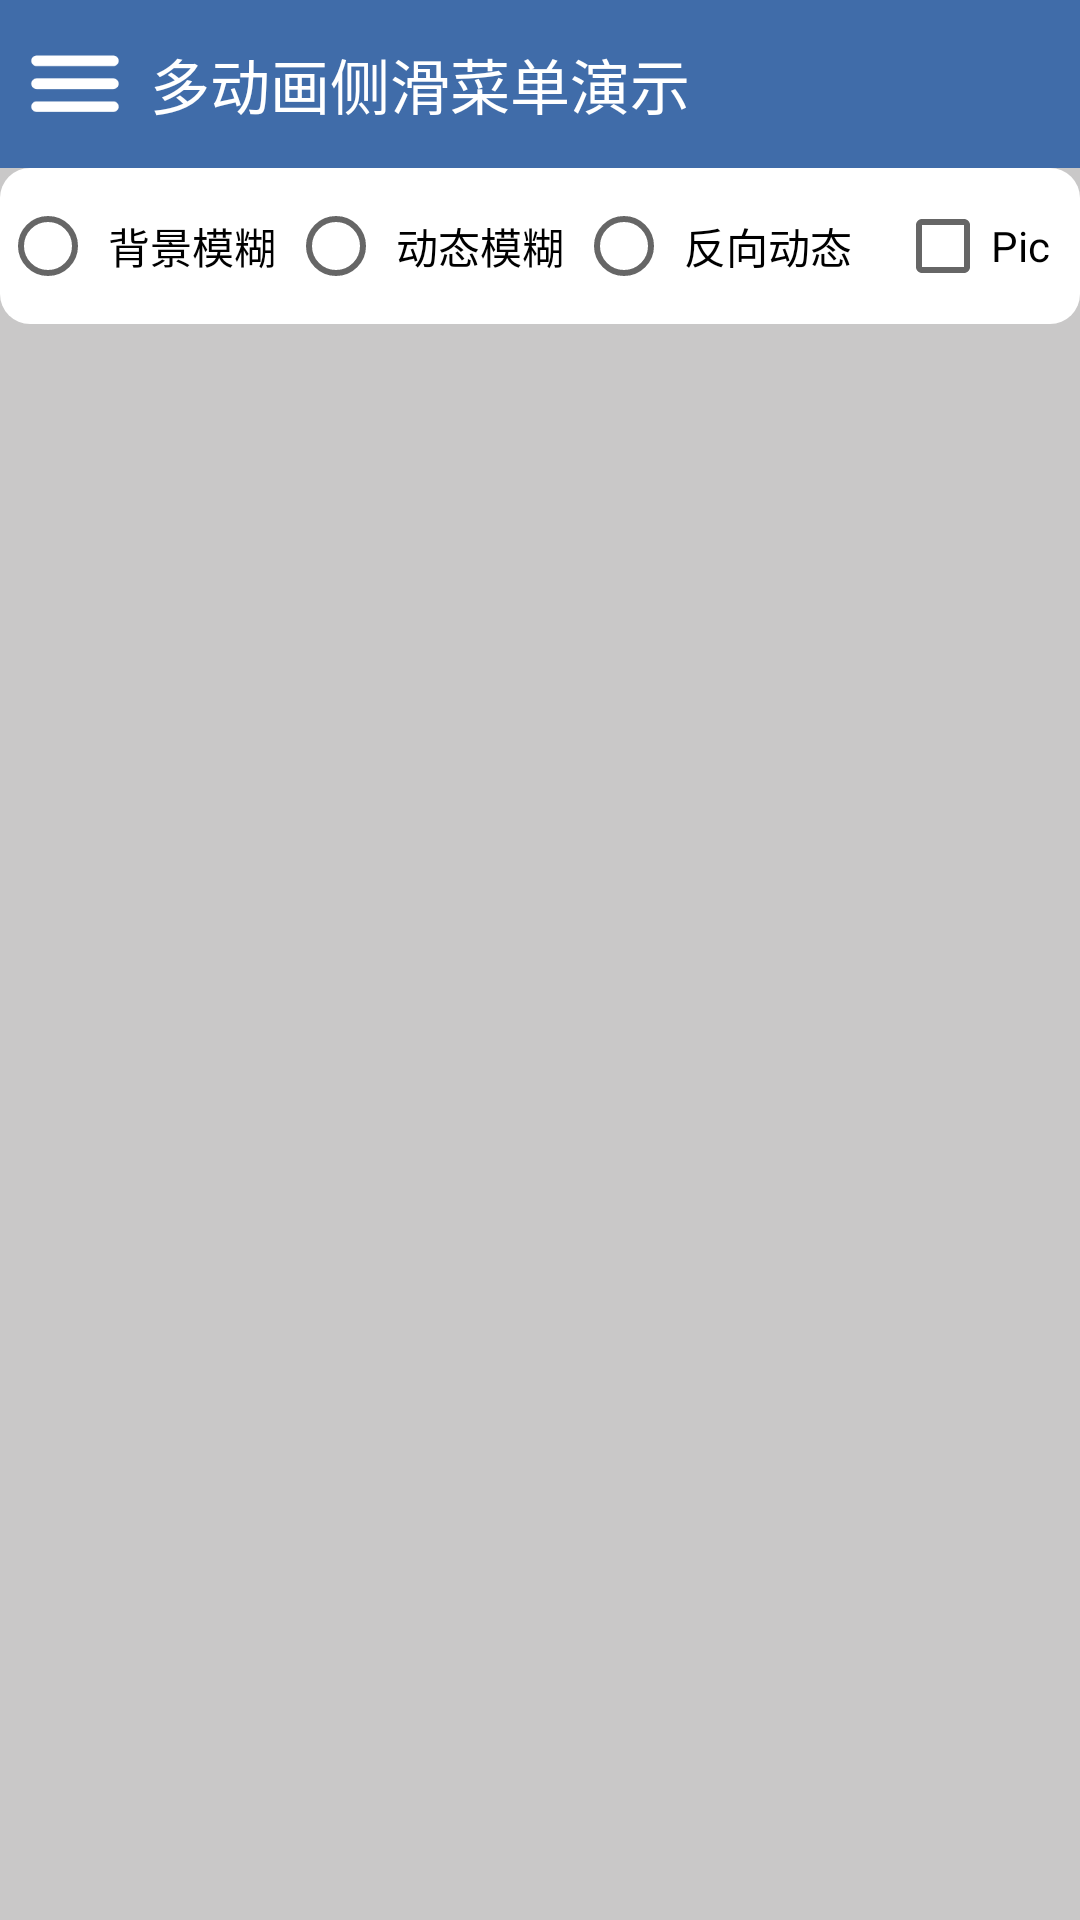

Screen size 1080×1920. Icon name, then its center in pixels as point (x, y):
menu: point (75, 83)
